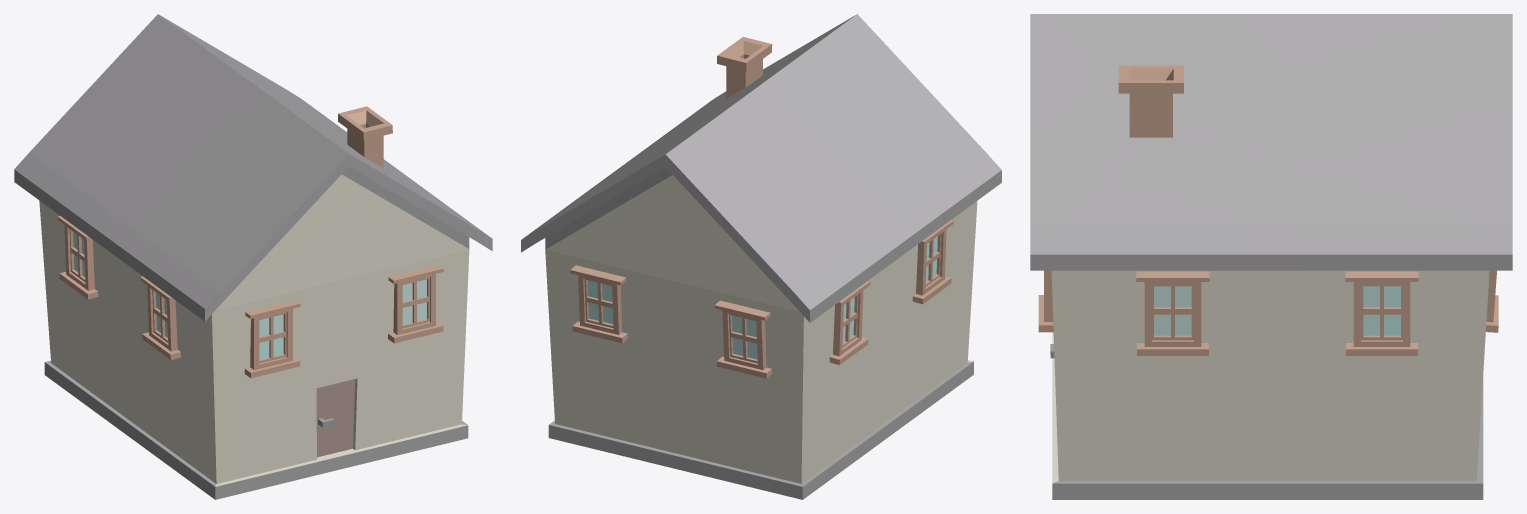
File: house-q-2.glb
3 views of the same model, side by side, from view 1: azimuth 30°, elevation 25°; view 2: azimuth 150°, elevation 25°; view 3: azimuth 270°, elevation 25° (orthographic). The views are drawn at different scales.
Visible parts, largest first — view 1: House2; view 2: House2; view 3: House2.
Part boxes in pixels (bbox=[...]): House2: bbox=[14, 14, 492, 499]; House2: bbox=[521, 14, 1001, 499]; House2: bbox=[1030, 14, 1512, 499].
Bounding box in the file's own units: 0.8697 × 0.9307 × 1.
Materials: 1 (1 with a texture image).
